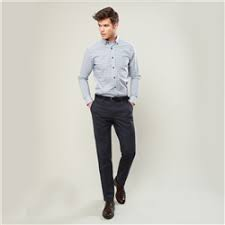F_belt: (92, 90, 131, 105)
F_dress pants: (86, 92, 135, 199)
F_shirt: (72, 37, 143, 104)
